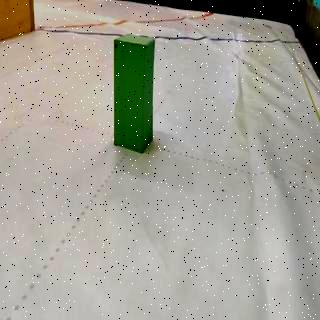greenbox: (112, 33, 156, 155)
